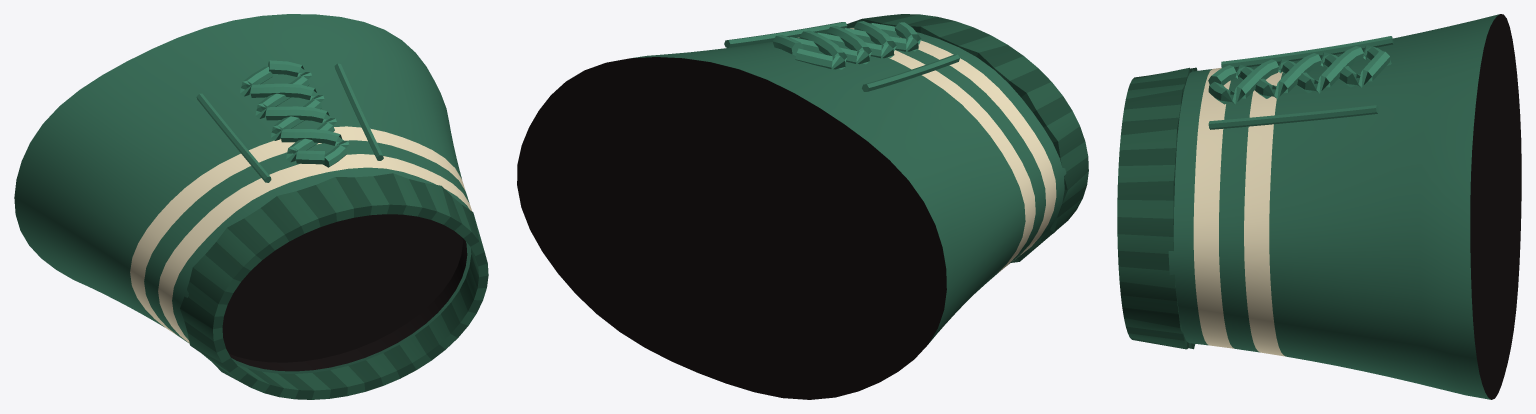
The model's file is Sleeve_Knit.fbx.
3 renders of one model, left to right at view 1: azimuth 30°, elevation 25°; view 2: azimuth 150°, elevation 25°; view 3: azimuth 270°, elevation 25°, orthographic. The views are drawn at different scales.
Parts seen in each view (by area): view 1: Sleeve_Knit; view 2: Sleeve_Knit; view 3: Sleeve_Knit.
Boxes of the visible parts, x1,y1,x2,y2 form: Sleeve_Knit: [14, 14, 488, 399]; Sleeve_Knit: [517, 14, 1088, 399]; Sleeve_Knit: [1117, 14, 1521, 399].
Bounding box in the file's own units: 0.9645 × 0.6248 × 0.7306.
1 material, 1 textured.
